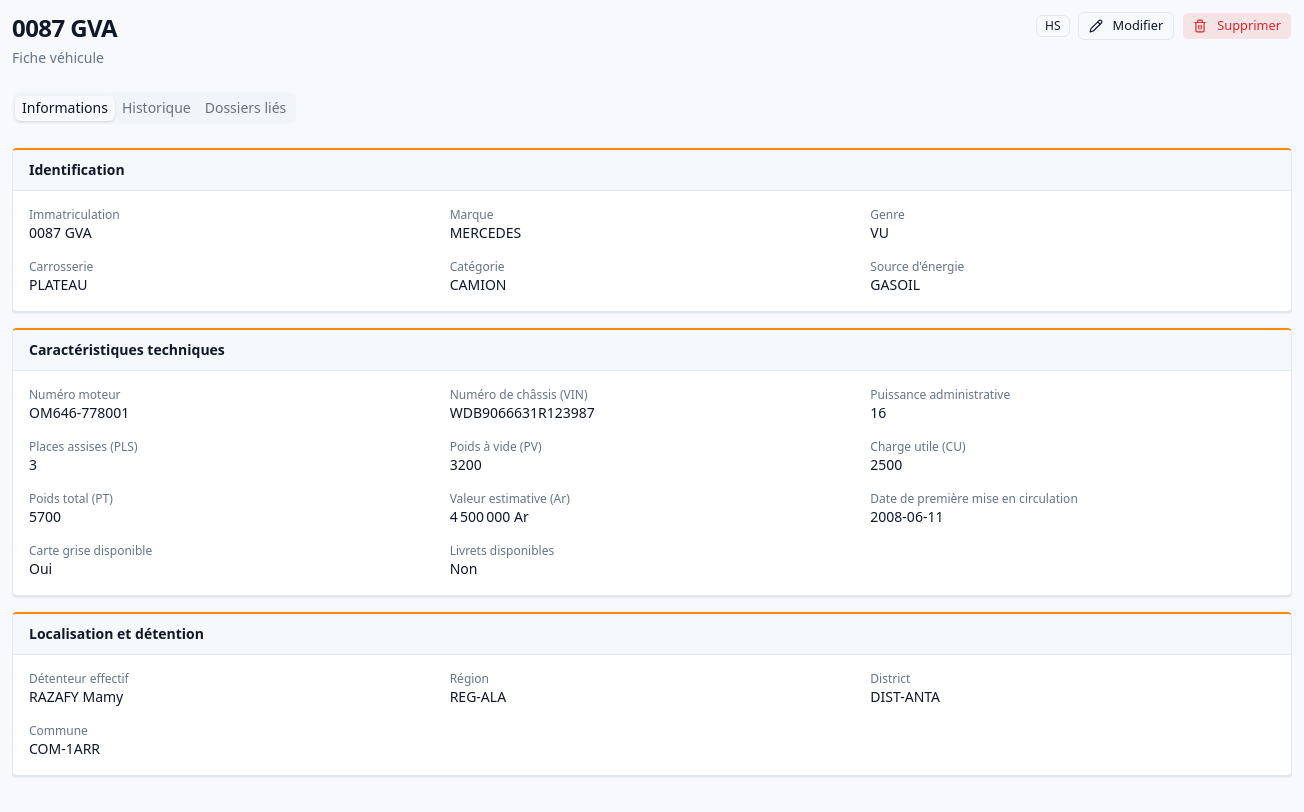
VehiculeDetailPage — onglet Historique › affiche le message d'état vide pour un véhicule sans mouvement enregistré
Click the tab with test id "vehicule-tab-historique" at (156, 108), box x1=115 y1=96 x2=198 y2=120
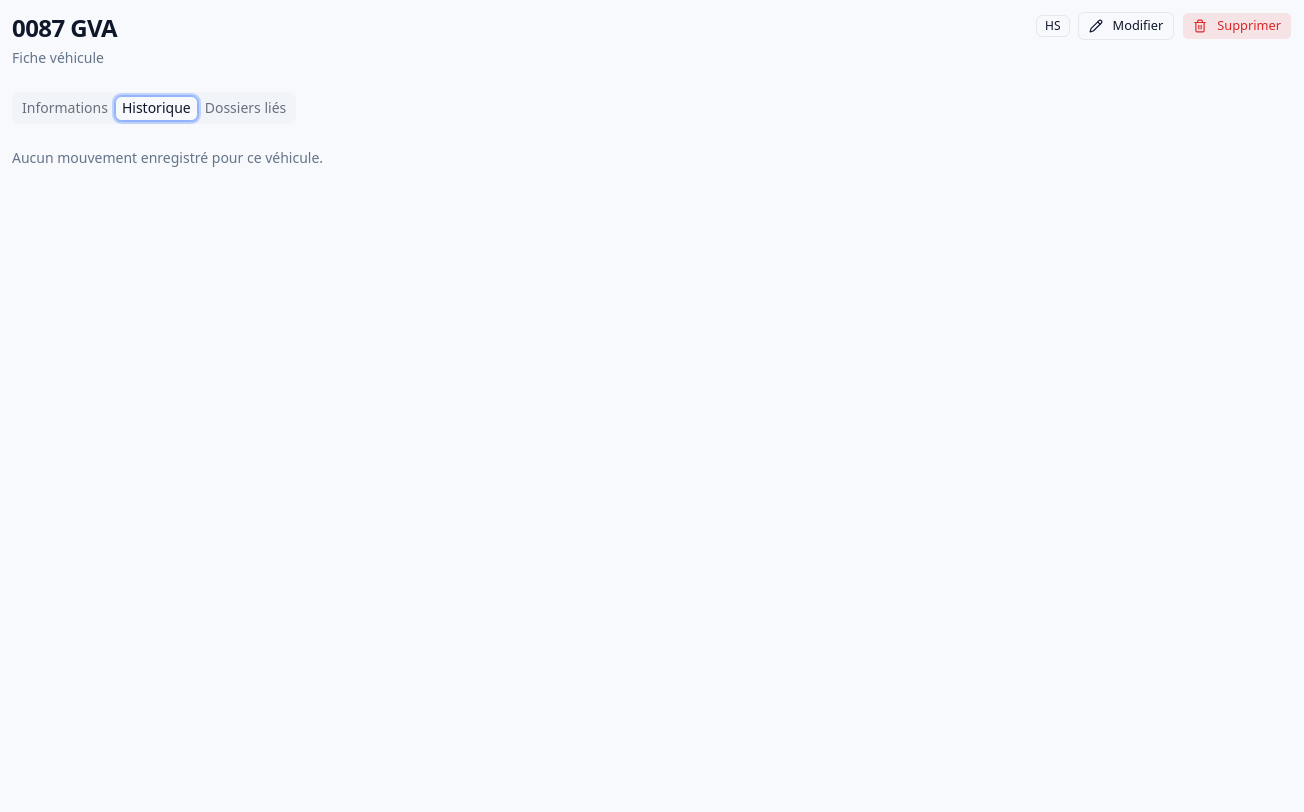
Expected: the panel with test id "vehicule-historique-panel" reads "Aucun mouvement enregistré pour ce véhicule.", x1=12 y1=148 x2=323 y2=167
